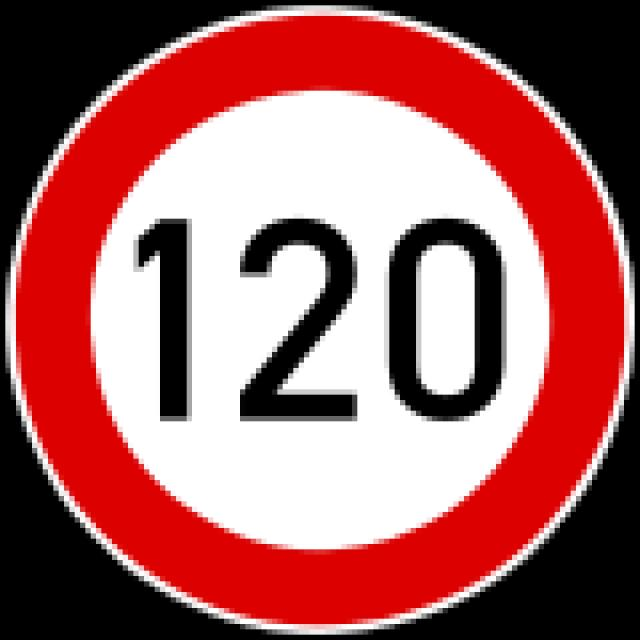Speed Limit -120-: (134, 215, 508, 430)
